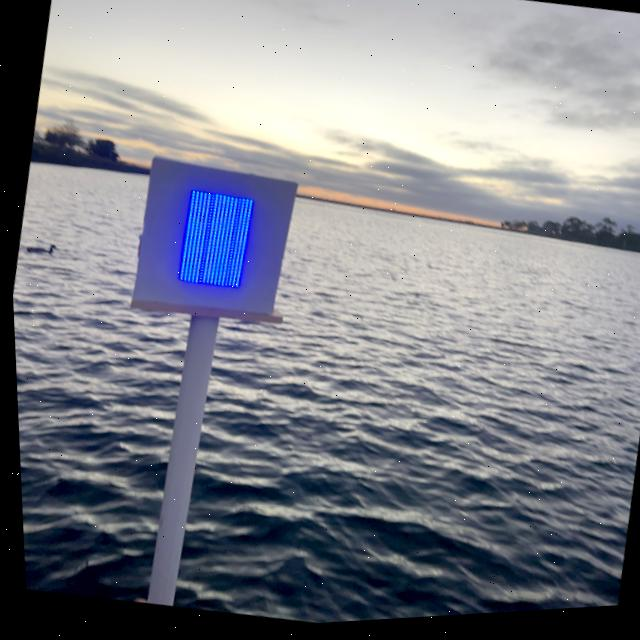led: (146, 168, 274, 320)
